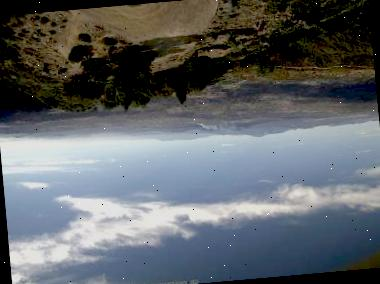smoke: (192, 118, 246, 140)
